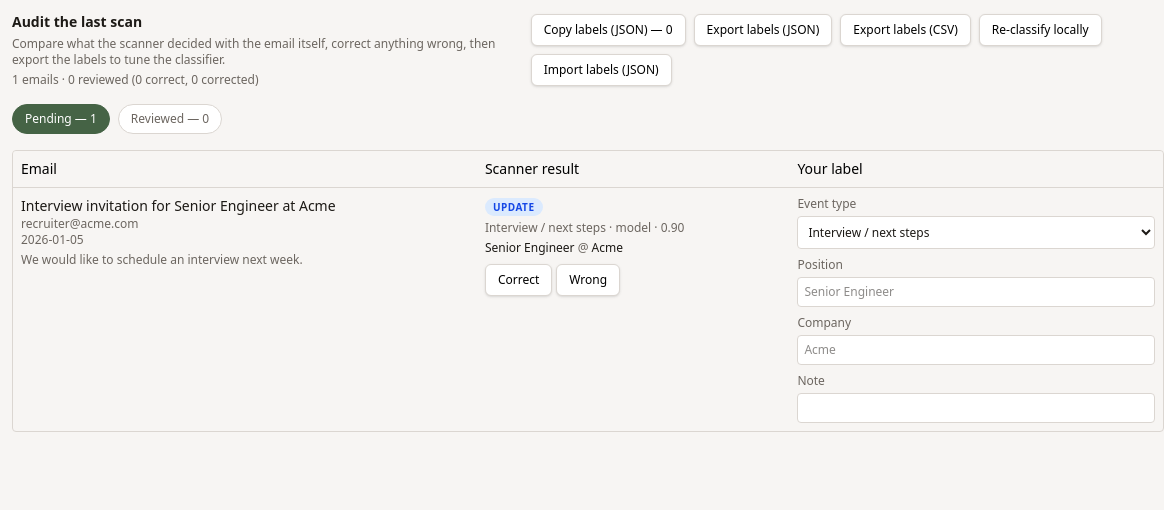
Test case: EmailScanAuditTable › records a correction and updates the stats
Select "Rejection" in the dropdown named "Event type — Interview invitation": coordinates (976, 232) [797,216,1155,249]
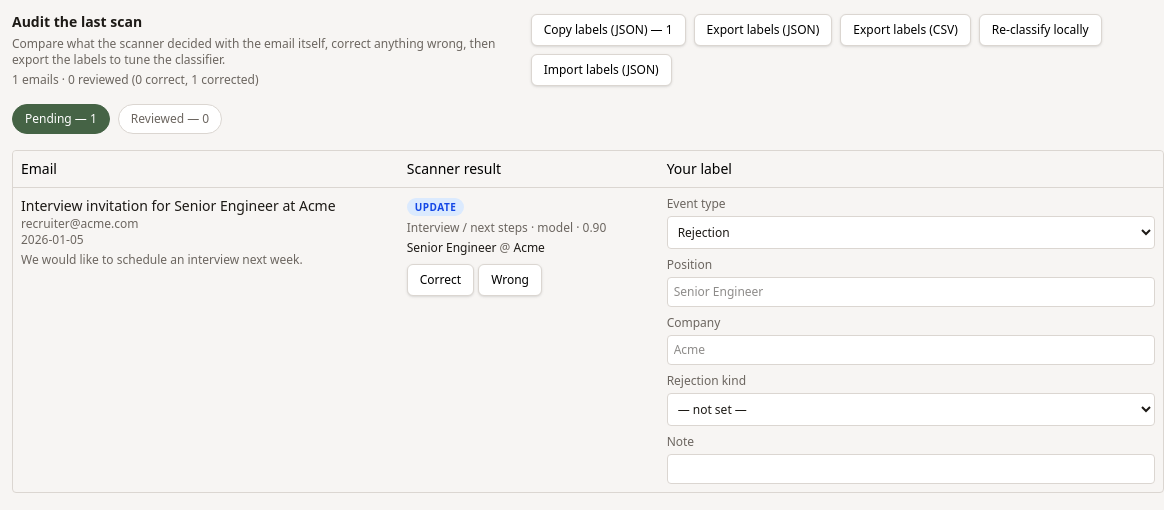
Now the text with test id "audit-stats" reads "1 emails · 0 reviewed (0 correct, 1 corrected)", box [12,71,258,88]
